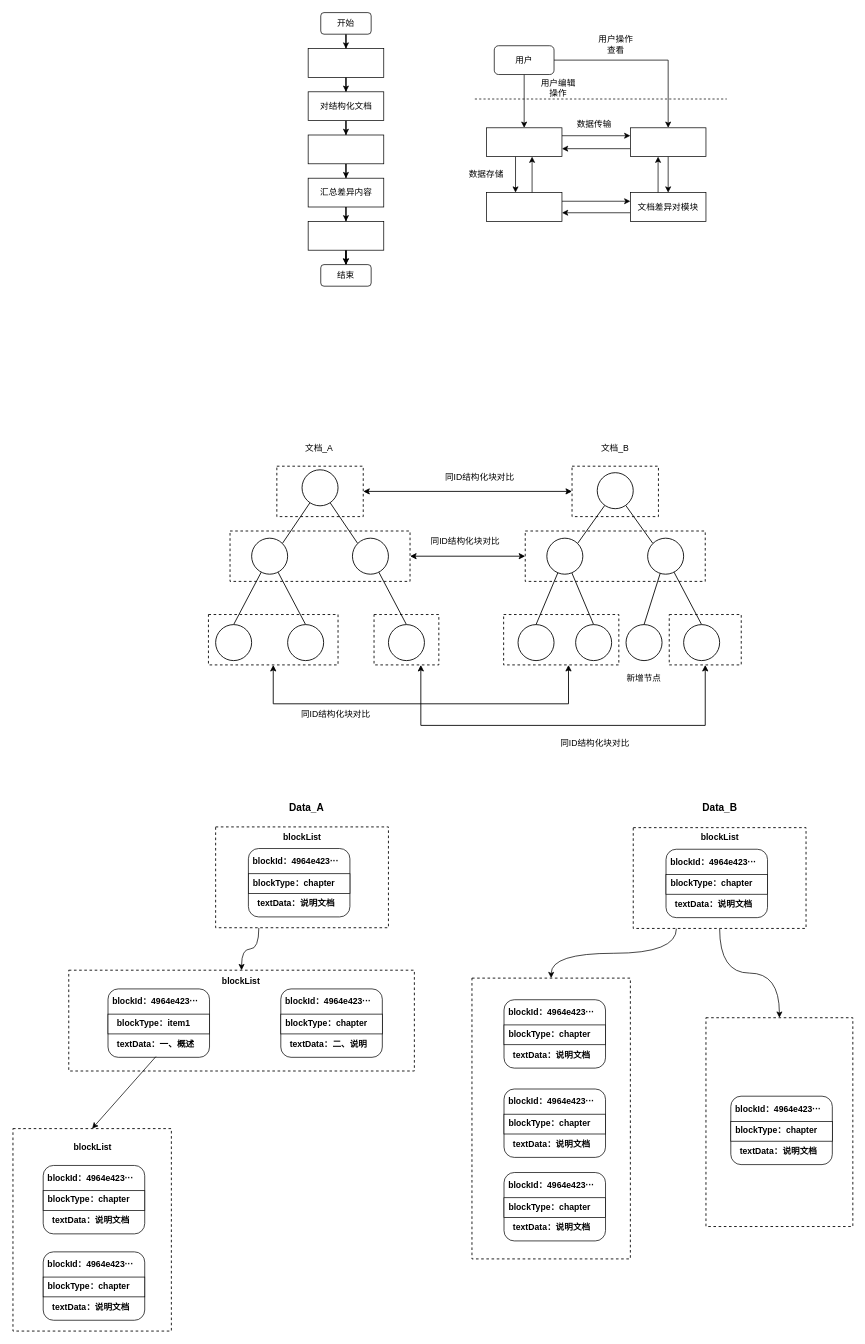
This 865x1344 diagram has some shape labels left out. Each missing label, with the centre of its shape:
文档存储模块: (524,206)
文档展示模块: (668,142)
文档差异展示: (345,235)
文档结构化处理: (345,62)
文档编辑器模块: (524,142)
细粒度文档差异对比: (345,149)
